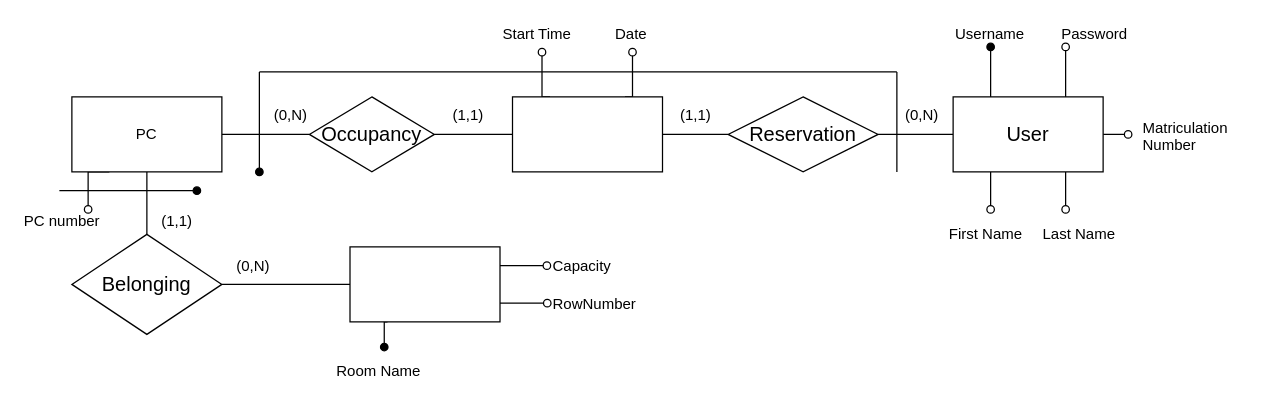
Some shapes in this 1261 by 405 pixel diagram are drawn without their labels. Each missing label, with the centre of its shape:
Booking: (x=586, y=134)
Room: (x=424, y=284)
